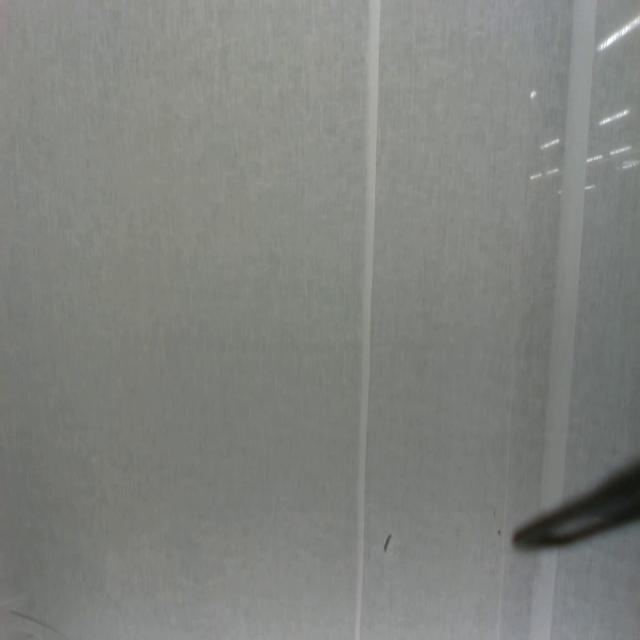crease: (540, 0, 597, 487), (354, 0, 381, 639), (495, 369, 514, 640), (530, 546, 560, 640), (11, 607, 68, 640)
hole: (382, 530, 393, 554), (497, 528, 502, 537), (493, 509, 497, 519)
